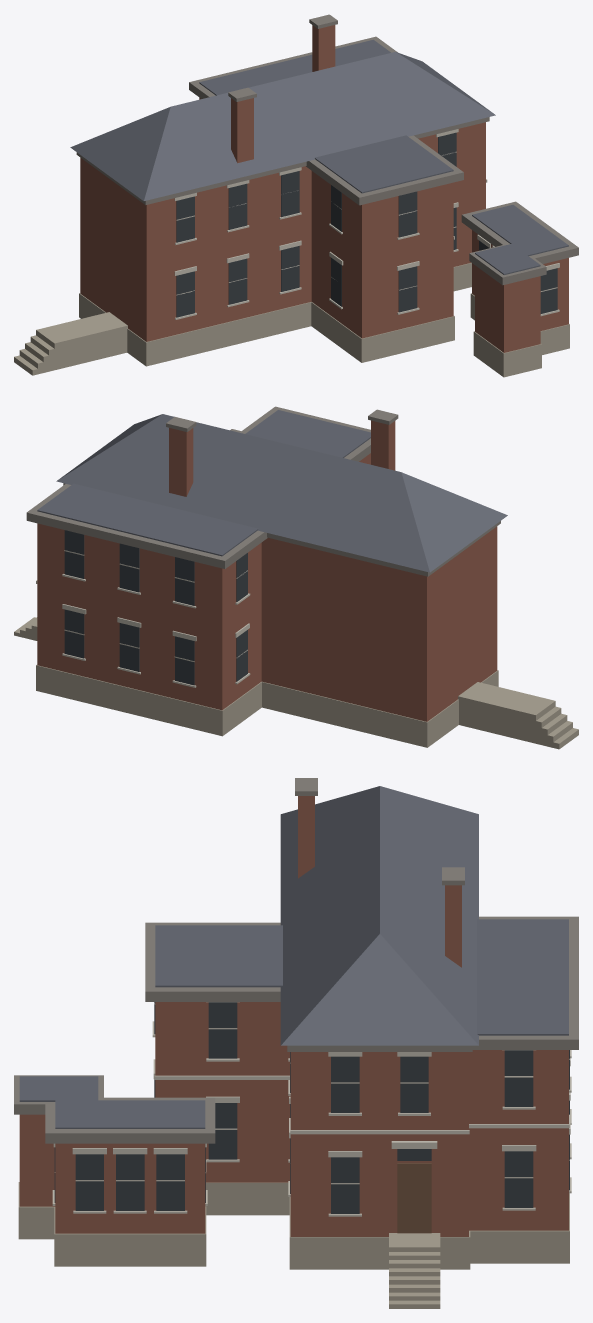
File: house_2106_calumet__draft_1904.glb
3 views of the same model, one above another, from view 1: azimuth 30°, elevation 25°; view 2: azimuth 150°, elevation 25°; view 3: azimuth 270°, elevation 25° (orthographic). The views are drawn at different scales.
Parts seen in each view (by area): view 1: house_2106_calumet__draft_1904; view 2: house_2106_calumet__draft_1904; view 3: house_2106_calumet__draft_1904.
Boxes of the visible parts, x1,y1,x2,y2 form: house_2106_calumet__draft_1904: [14, 14, 578, 377]; house_2106_calumet__draft_1904: [14, 406, 578, 749]; house_2106_calumet__draft_1904: [14, 778, 578, 1308].
Size of the model in its own units: 27 by 12.69 by 19.8.
